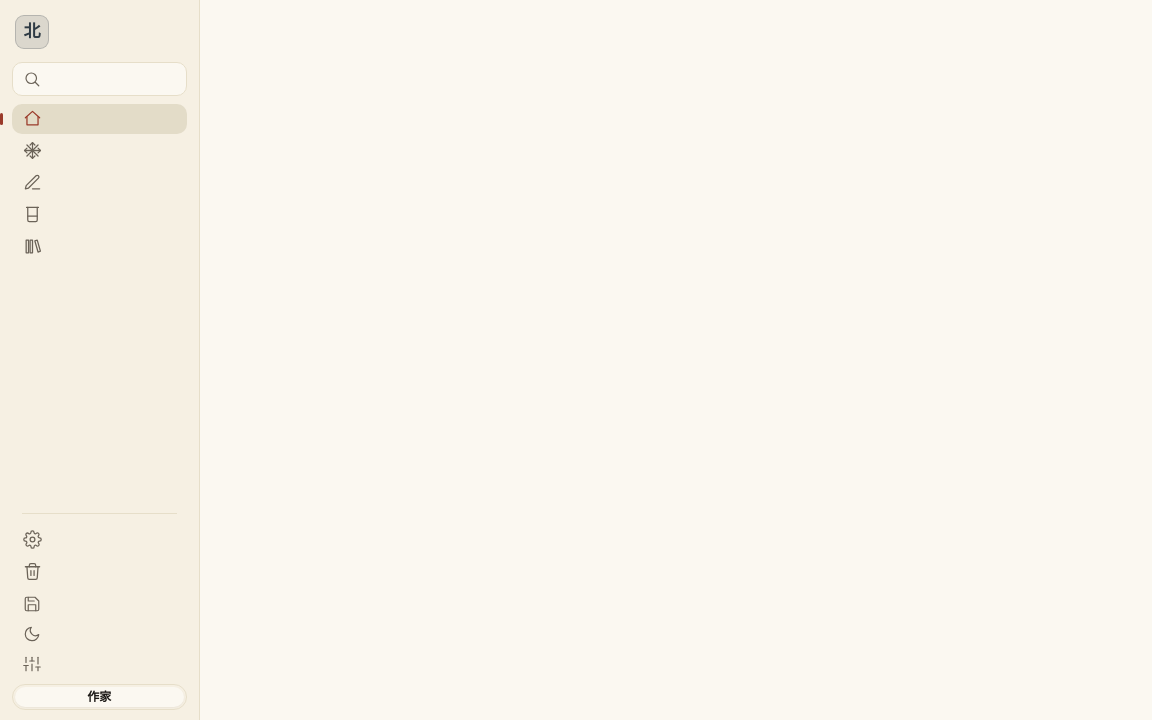
侧栏 · 浮层把焦点还给入口时不展开（在浮层里按过键也一样） › 命令面板：鼠标打开，↓ 选一项、回车跳过去——焦点回到「快速跳转」，侧栏不展开
Step 1. Press the mouse on the button with class "ws-cmdk" → (99, 79), box [12,62,186,96]
Step 2. Press the mouse on the button with class "ws-cmdk" → (99, 79), box [12,62,186,96]
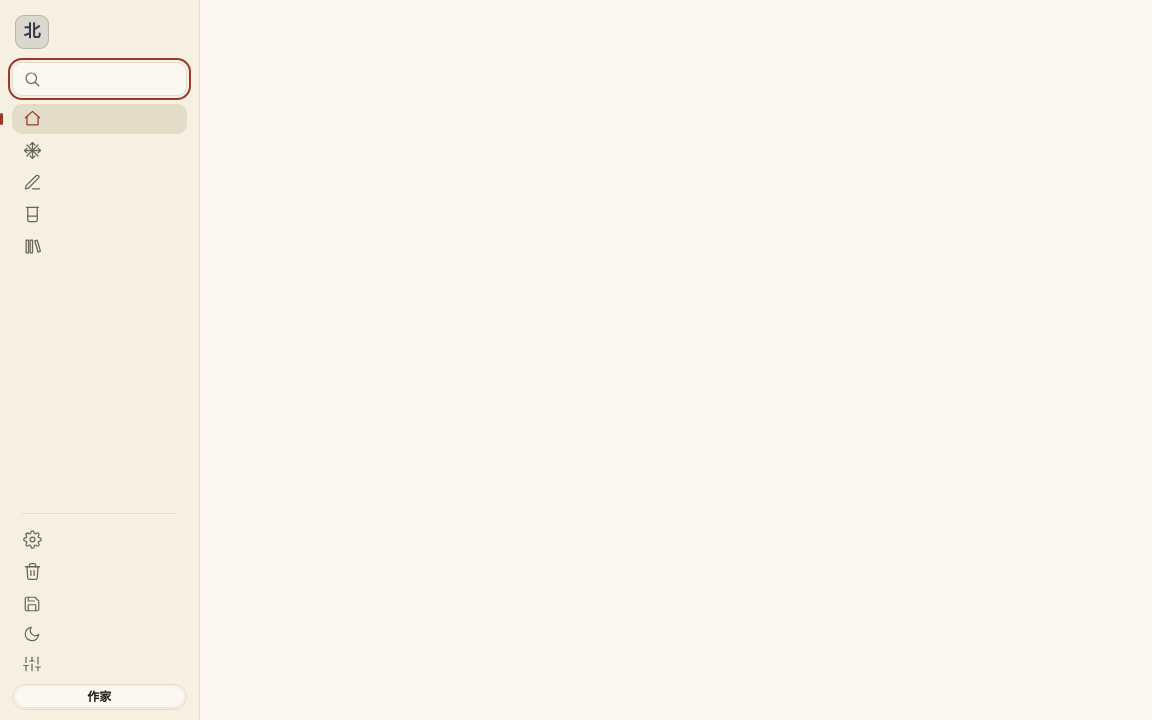
Step 3. Click the button with class "ws-cmdk" → (99, 79), box [12,62,186,96]
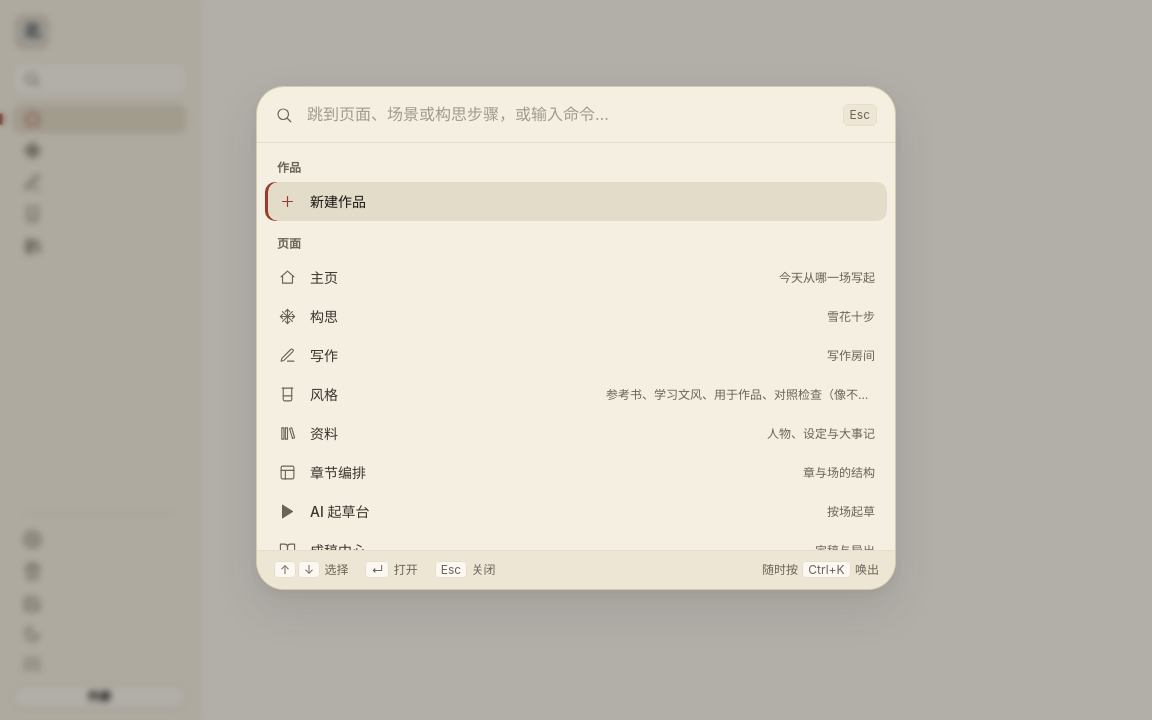
Step 4. Press ArrowDown in the dropdown with placeholder "跳到页面、场景或构思步骤，或输入命令…", box [305,103,831,126]
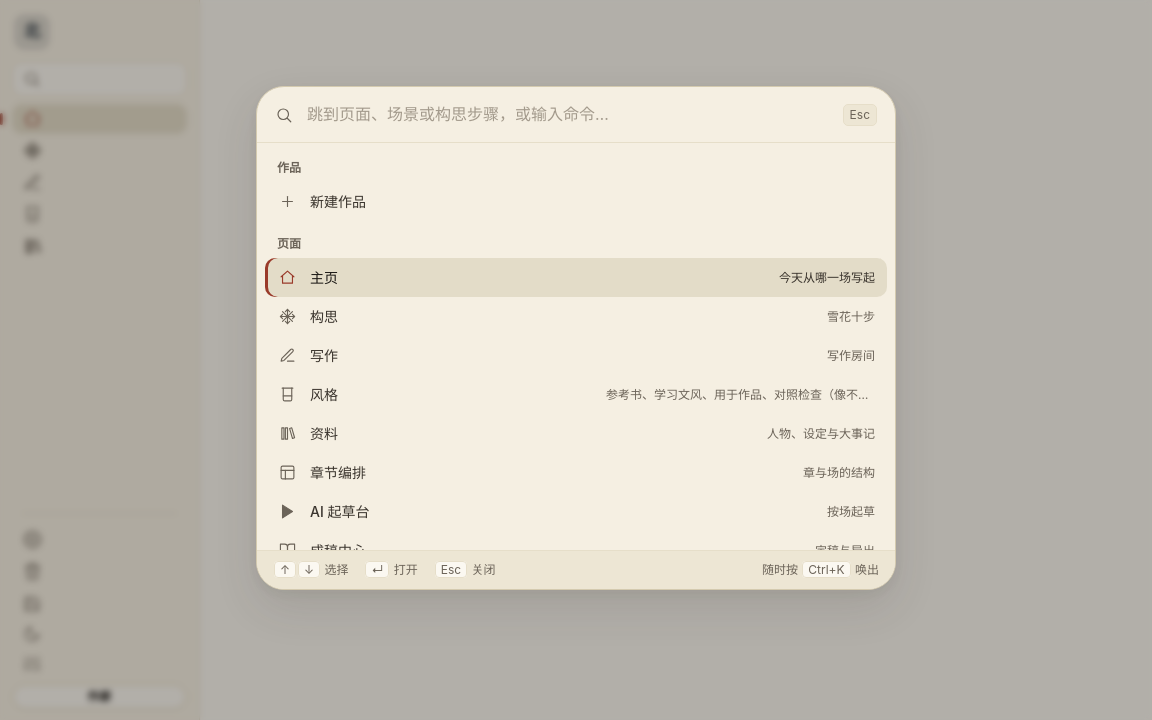
Step 5. Press Enter in the dropdown with placeholder "跳到页面、场景或构思步骤，或输入命令…", box [305,103,831,126]
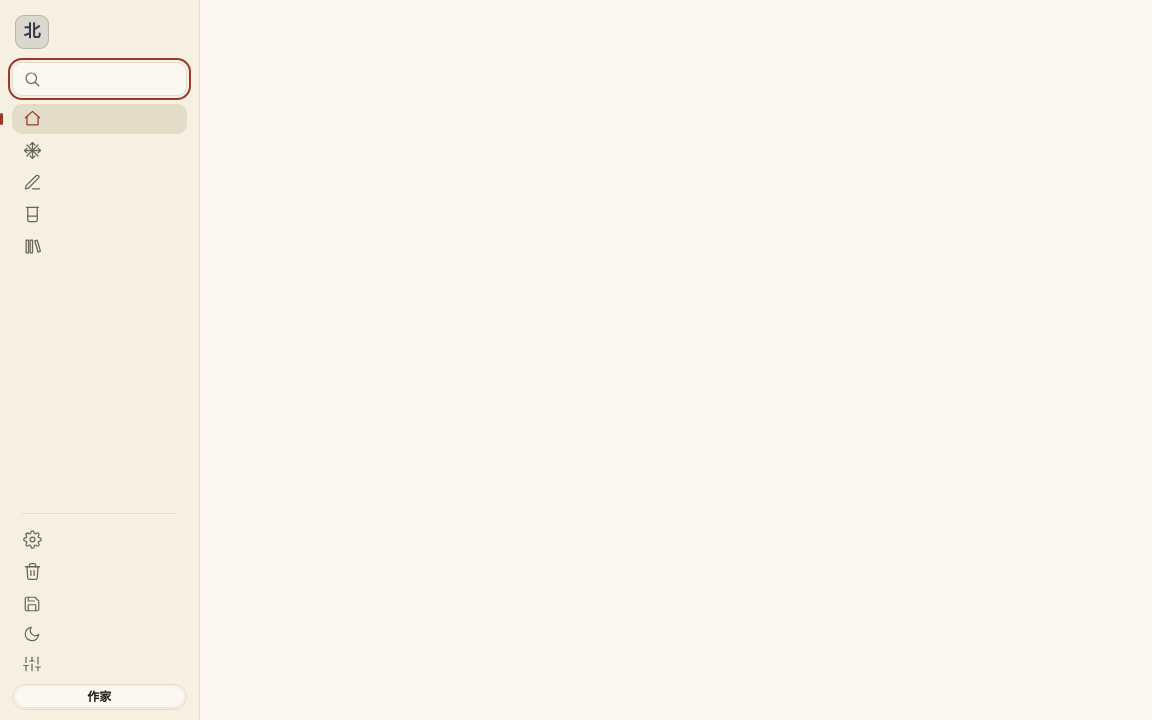
Expected: the dialog is gone
